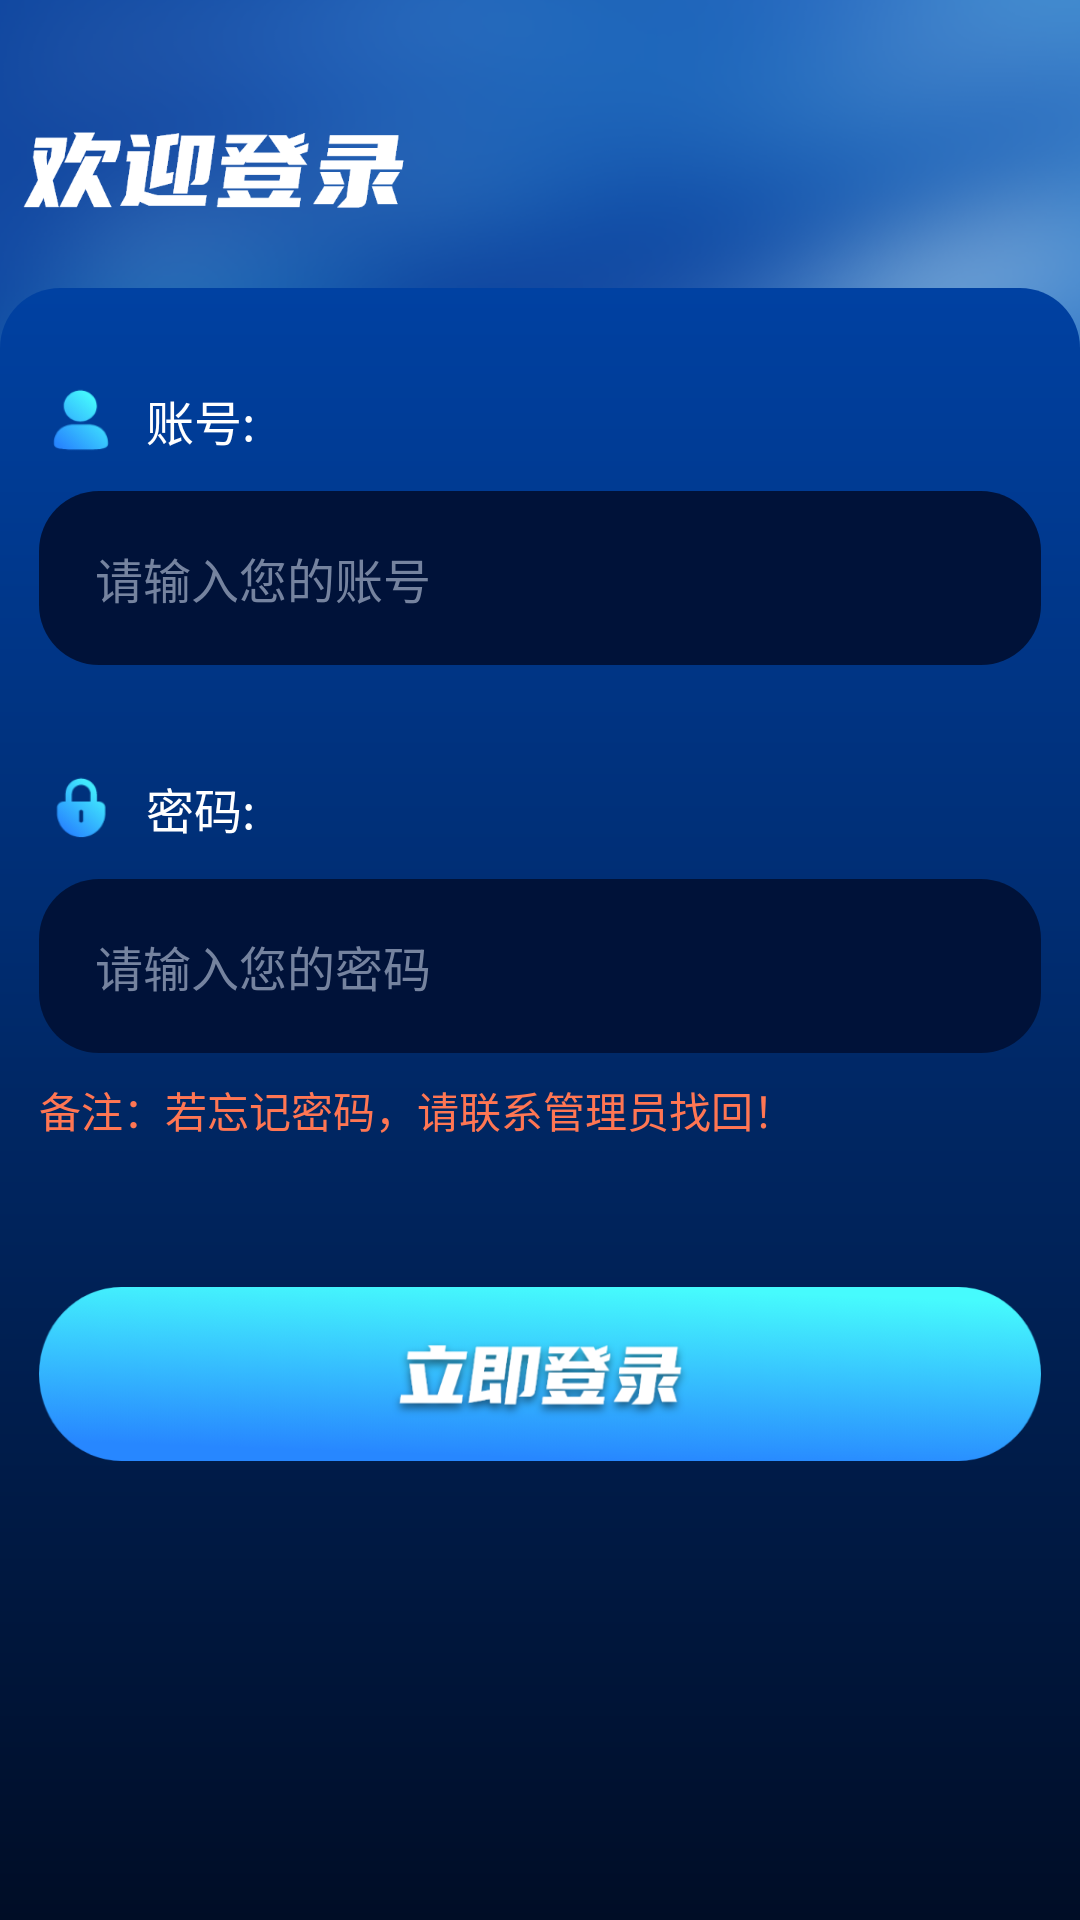

Screen size 1080x1920. Icon name, then its box in pixels as (left=x1, top=y1, right=x2, bottom=y2):
user: (left=54, top=390, right=108, bottom=450)
